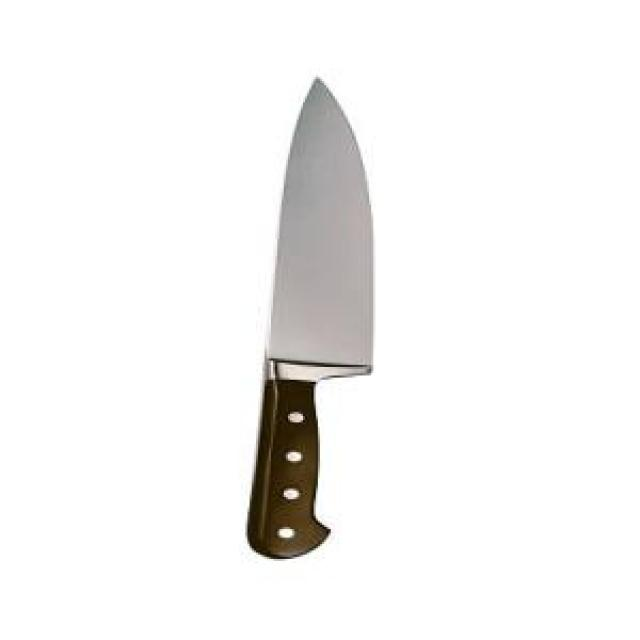knife: (233, 68, 404, 561)
